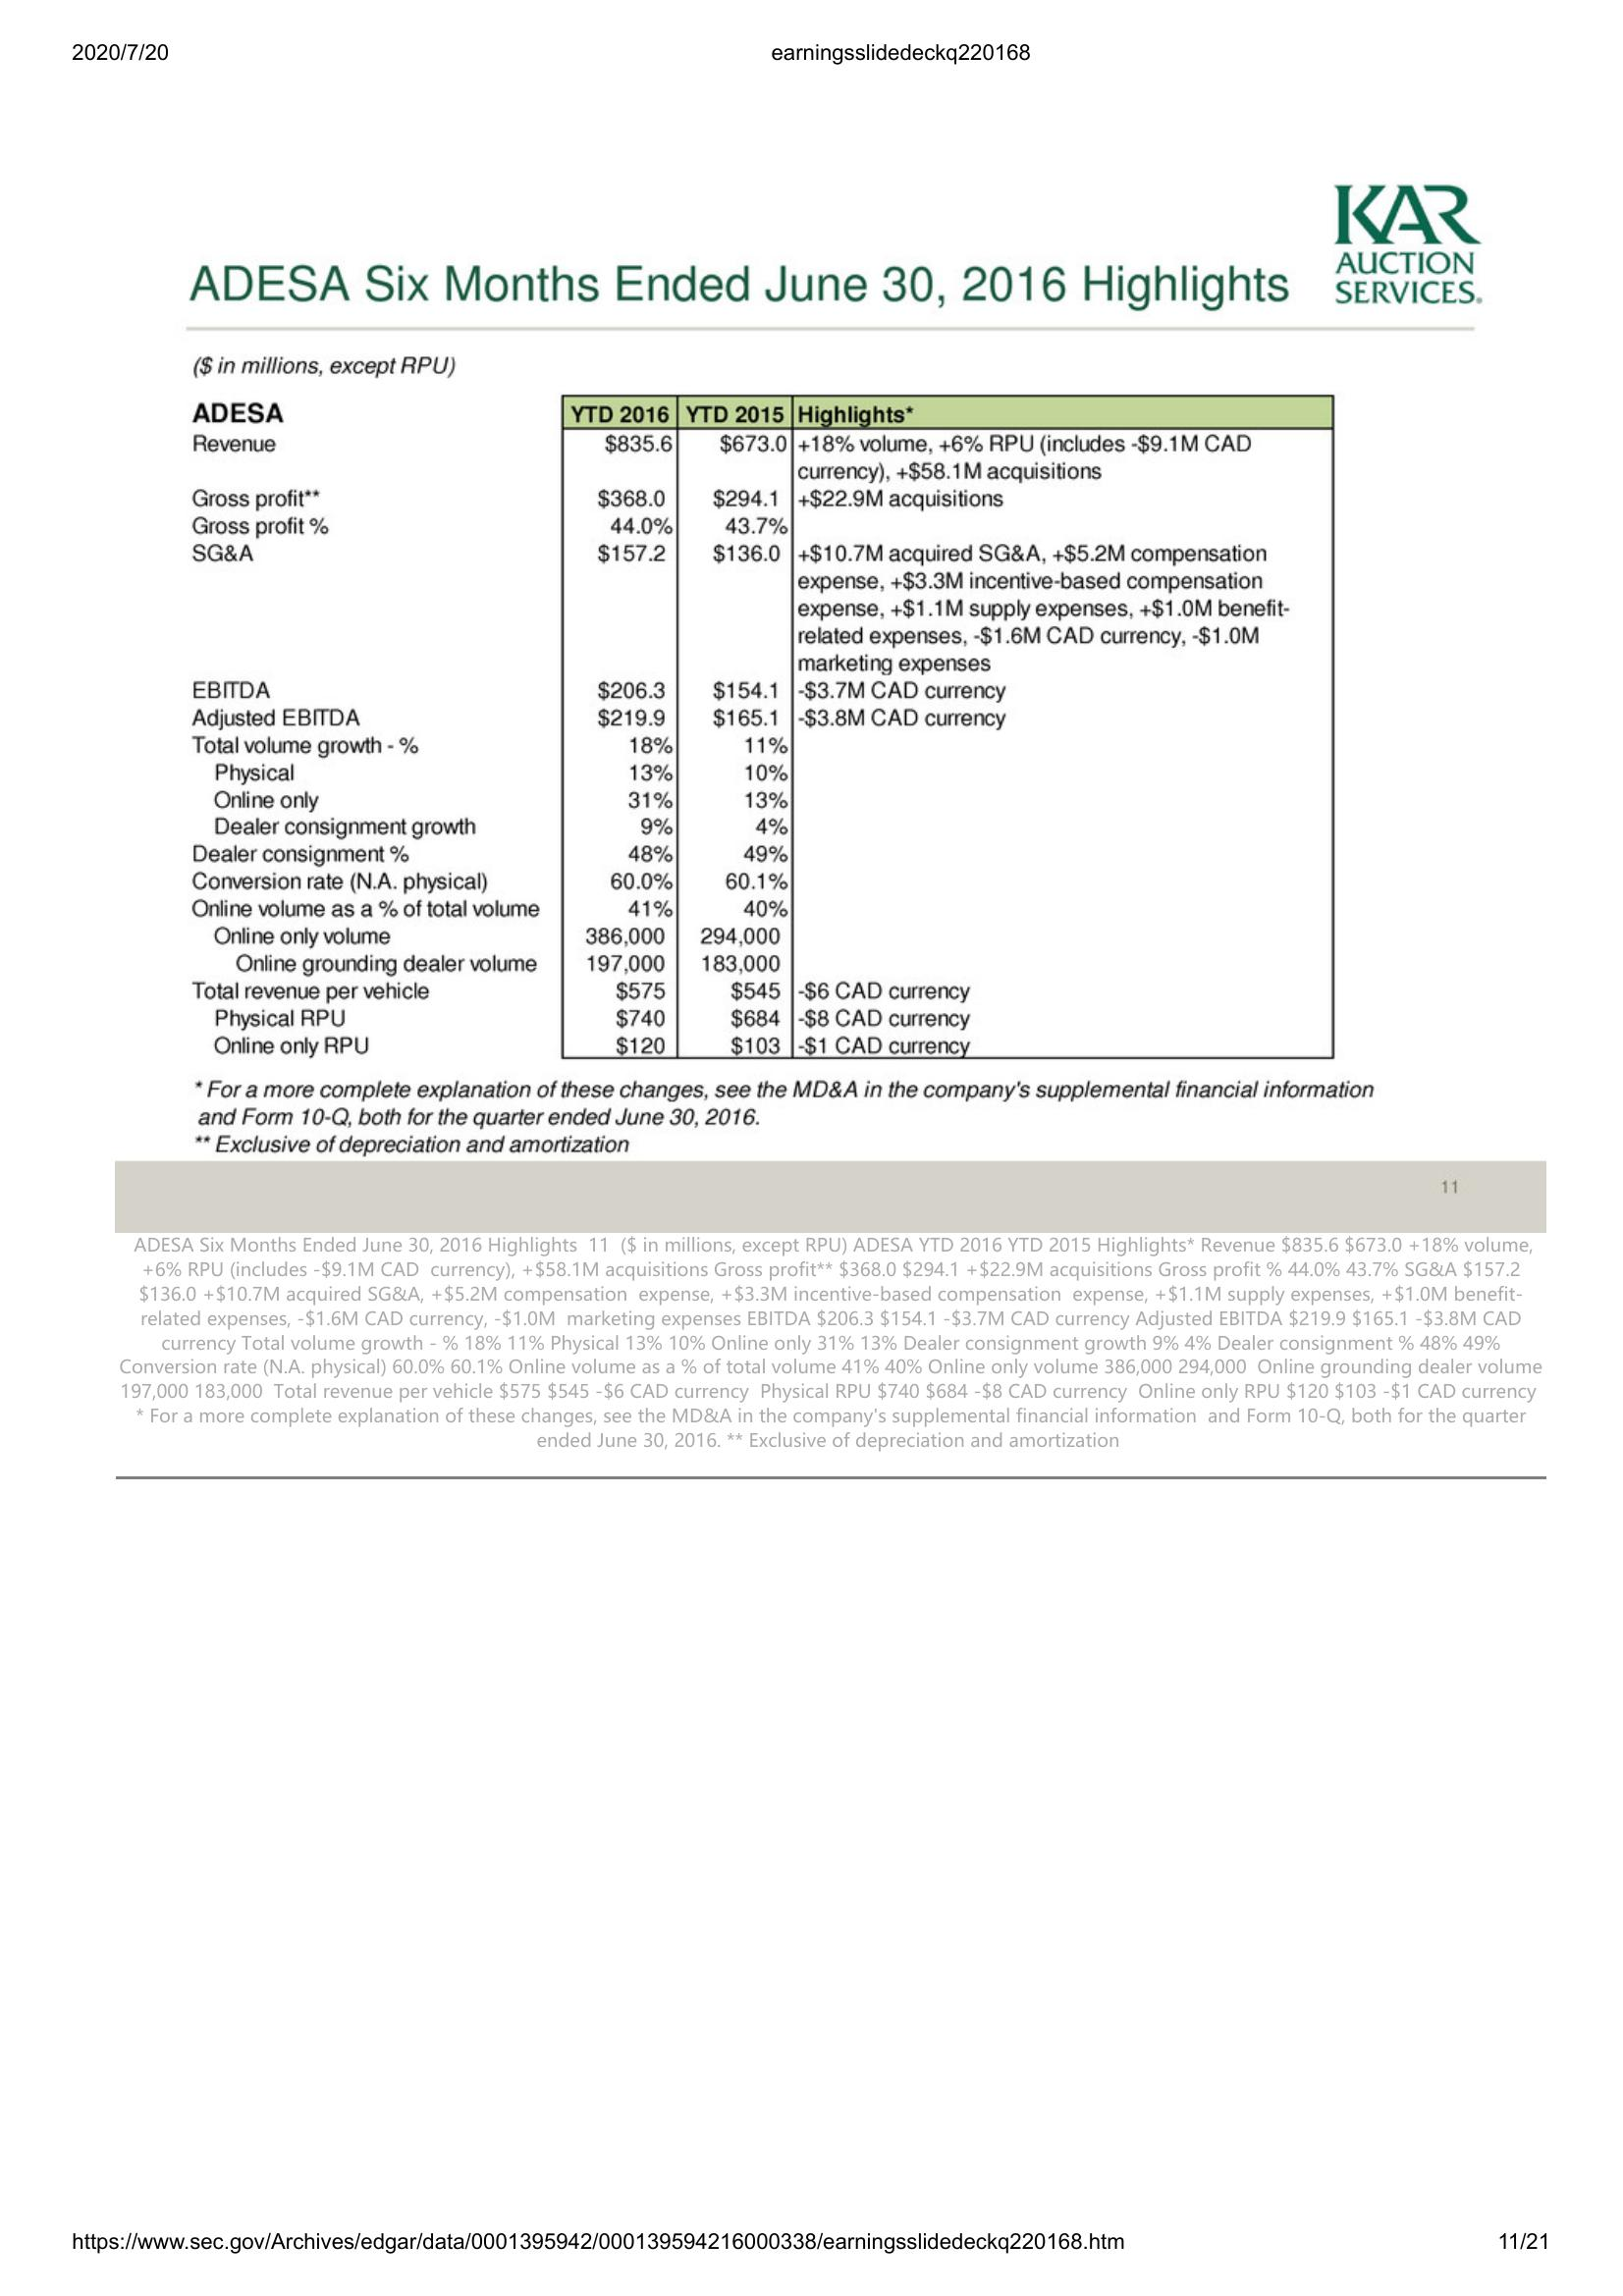table: (557, 388, 1342, 1067)
